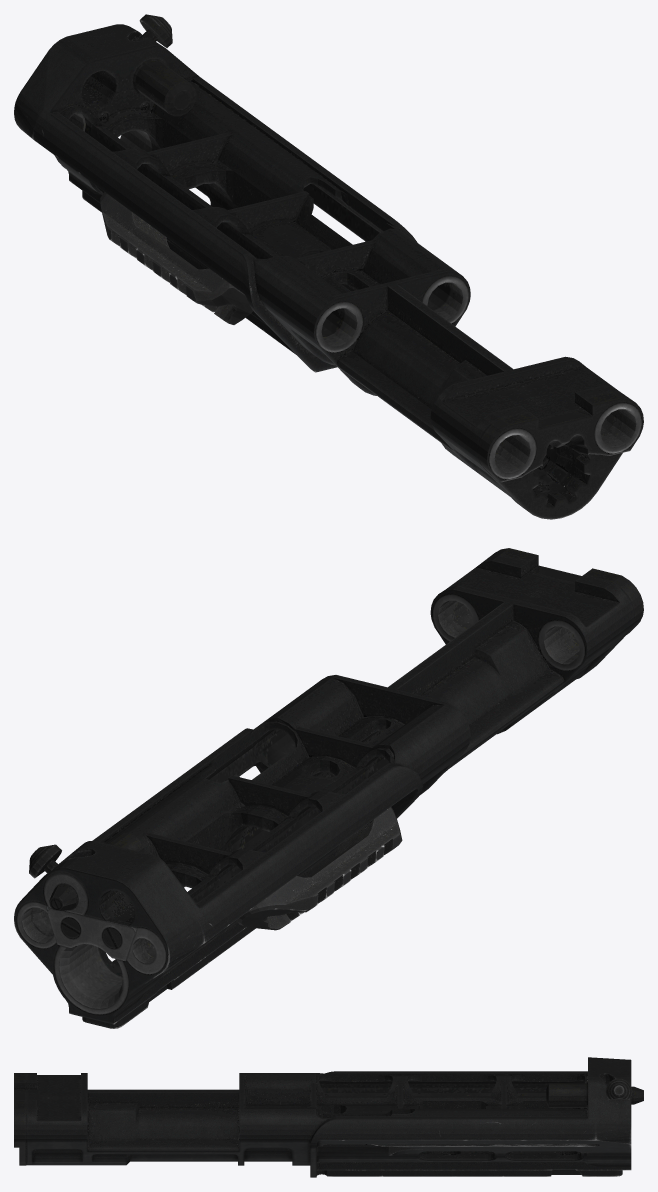
The picture shows the model from 3 angles, top to bottom: view 1: azimuth 30°, elevation 25°; view 2: azimuth 150°, elevation 25°; view 3: azimuth 270°, elevation 25°; orthographic projection. The views are drawn at different scales.
Parts seen in each view (by area): view 1: TW_67110d8d388bded67304ceb4_PZ_Import; view 2: TW_67110d8d388bded67304ceb4_PZ_Import; view 3: TW_67110d8d388bded67304ceb4_PZ_Import.
Boxes of the visible parts, x1,y1,x2,y2 form: TW_67110d8d388bded67304ceb4_PZ_Import: [14, 14, 643, 519]; TW_67110d8d388bded67304ceb4_PZ_Import: [14, 548, 643, 1028]; TW_67110d8d388bded67304ceb4_PZ_Import: [14, 1057, 643, 1177].
Bounding box in the file's own units: 0.0382 × 0.1691 × 0.0318.
1 material, 1 textured.
